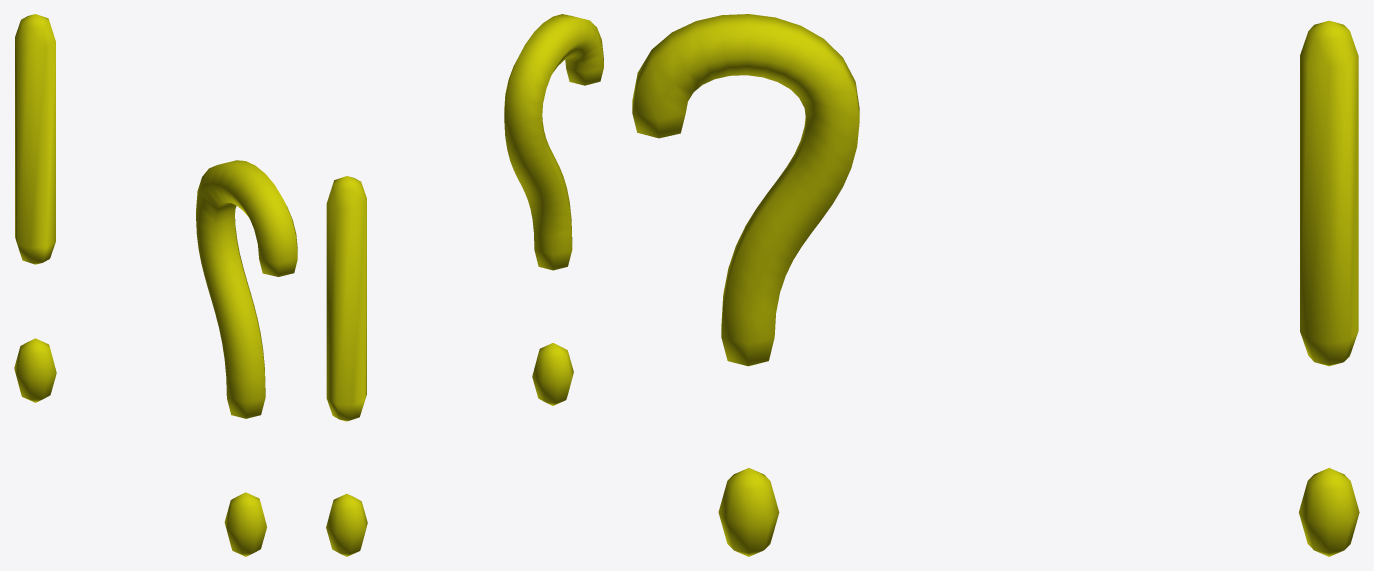
File: interactVisuals.fbx
3 renders of one model, left to right at view 1: azimuth 30°, elevation 25°; view 2: azimuth 150°, elevation 25°; view 3: azimuth 270°, elevation 25°, orthographic. The views are drawn at different scales.
Parts seen in each view (by area): view 1: QuestionMark, ExclamationMark; view 2: QuestionMark, ExclamationMark; view 3: QuestionMark, ExclamationMark.
Part boxes in pixels (x1,y1,x2,y2): QuestionMark: (196,160,297,556); ExclamationMark: (14,14,56,402); QuestionMark: (504,14,603,405); ExclamationMark: (326,176,367,556); QuestionMark: (632,14,859,556); ExclamationMark: (1299,20,1359,556).
Size of the model in its own units: 10.6 by 102 by 125.
